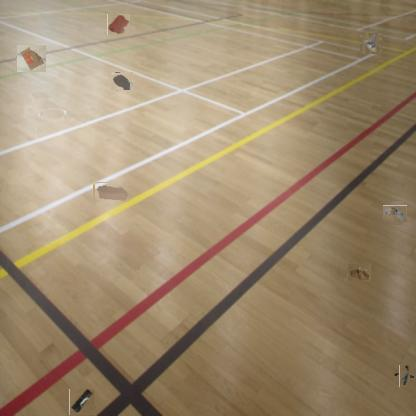dirty: (16, 44, 46, 72), (93, 182, 130, 202), (69, 390, 95, 415), (385, 203, 406, 224), (347, 263, 371, 281), (361, 34, 381, 52), (397, 368, 413, 385)
liquid: (108, 13, 130, 36), (111, 72, 133, 90)
